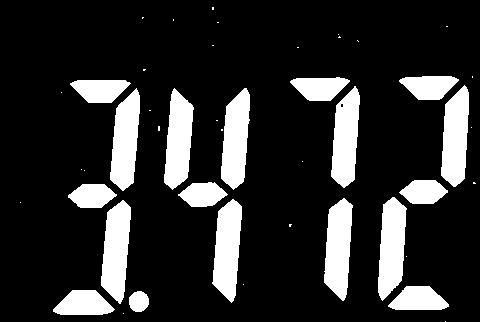2: (377, 70, 471, 315)
3: (51, 75, 143, 319)
4: (162, 86, 252, 303)
7: (288, 78, 363, 302)
dot: (129, 292, 150, 312)
